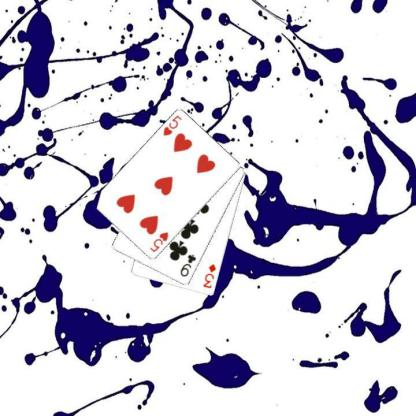3D: (200, 261, 218, 290)
5H: (161, 112, 183, 138), (147, 230, 170, 254)
9C: (177, 252, 197, 278)
